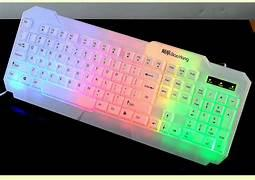keyboard: (2, 5, 252, 166)
